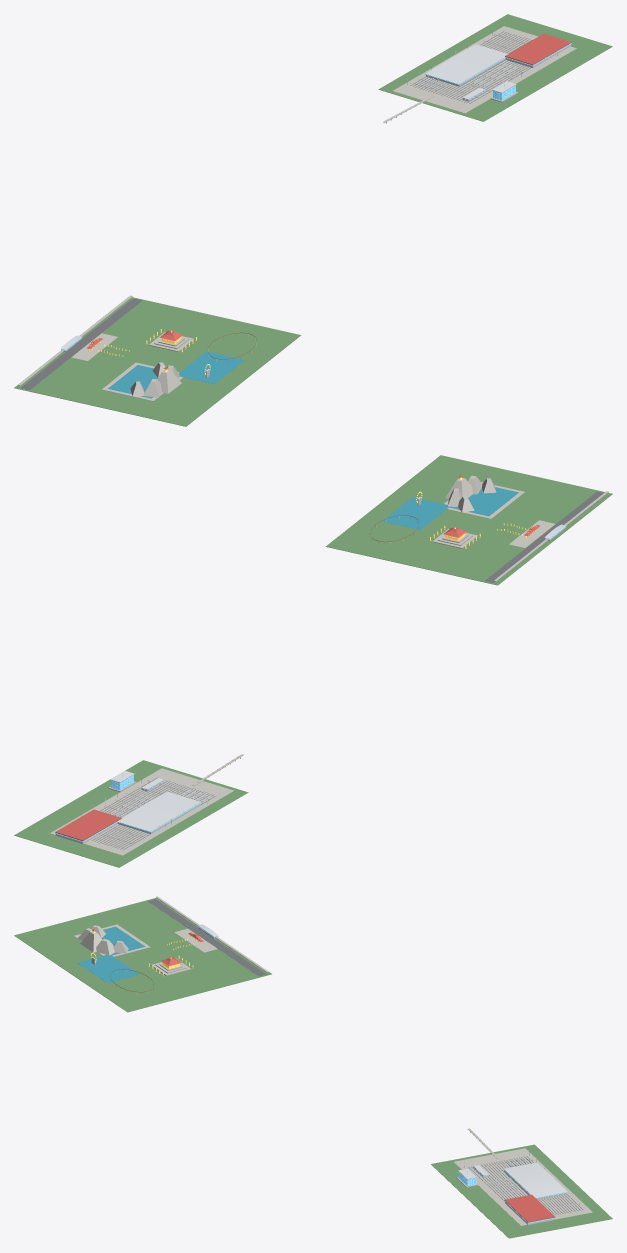
Rendered from suoitien_metro_depot.glb.
3 views of the same model, one above another, from view 1: azimuth 30°, elevation 25°; view 2: azimuth 210°, elevation 25°; view 3: azimuth 270°, elevation 25° (orthographic). The views are drawn at different scales.
Visible parts, largest first — view 1: SUOITIEN_LONGBINH_GREEN_PAD, VIADUCT_MOUNTAIN_TEMPLE_STONE, DEPOT_WORKSHOPS_HITACHI_TRAINS, DEPOT_30_TRACKS_ROADS, TIENDONG_BEACH_DRAGON_LAKES, IMPERIAL_ROOFS_ROLLERCOASTER, OCC_TOWER_YARD_FLOODLIGHTS_EMISSIVE; view 2: SUOITIEN_LONGBINH_GREEN_PAD, VIADUCT_MOUNTAIN_TEMPLE_STONE, DEPOT_WORKSHOPS_HITACHI_TRAINS, TIENDONG_BEACH_DRAGON_LAKES, DEPOT_30_TRACKS_ROADS, IMPERIAL_ROOFS_ROLLERCOASTER, OCC_TOWER_YARD_FLOODLIGHTS_EMISSIVE; view 3: SUOITIEN_LONGBINH_GREEN_PAD, VIADUCT_MOUNTAIN_TEMPLE_STONE, DEPOT_WORKSHOPS_HITACHI_TRAINS, DEPOT_30_TRACKS_ROADS, TIENDONG_BEACH_DRAGON_LAKES, IMPERIAL_ROOFS_ROLLERCOASTER.
Boxes of the visible parts, x1,y1,x2,y2 form: SUOITIEN_LONGBINH_GREEN_PAD: [14, 14, 612, 426]; VIADUCT_MOUNTAIN_TEMPLE_STONE: [18, 26, 576, 401]; DEPOT_WORKSHOPS_HITACHI_TRAINS: [60, 30, 571, 377]; DEPOT_30_TRACKS_ROADS: [21, 31, 531, 389]; TIENDONG_BEACH_DRAGON_LAKES: [108, 351, 244, 398]; IMPERIAL_ROOFS_ROLLERCOASTER: [86, 33, 571, 369]; OCC_TOWER_YARD_FLOODLIGHTS_EMISSIVE: [61, 22, 571, 350]; SUOITIEN_LONGBINH_GREEN_PAD: [14, 455, 612, 867]; VIADUCT_MOUNTAIN_TEMPLE_STONE: [50, 475, 608, 855]; DEPOT_WORKSHOPS_HITACHI_TRAINS: [55, 496, 566, 845]; TIENDONG_BEACH_DRAGON_LAKES: [382, 487, 518, 529]; DEPOT_30_TRACKS_ROADS: [92, 491, 603, 850]; IMPERIAL_ROOFS_ROLLERCOASTER: [55, 475, 540, 840]; OCC_TOWER_YARD_FLOODLIGHTS_EMISSIVE: [55, 526, 565, 847]; SUOITIEN_LONGBINH_GREEN_PAD: [14, 898, 612, 1238]; VIADUCT_MOUNTAIN_TEMPLE_STONE: [74, 896, 592, 1225]; DEPOT_WORKSHOPS_HITACHI_TRAINS: [91, 924, 579, 1224]; DEPOT_30_TRACKS_ROADS: [148, 899, 583, 1215]; TIENDONG_BEACH_DRAGON_LAKES: [77, 926, 144, 982]; IMPERIAL_ROOFS_ROLLERCOASTER: [92, 929, 555, 1222].
Size of the model in its own units: 3689 by 87.8 by 2737.
